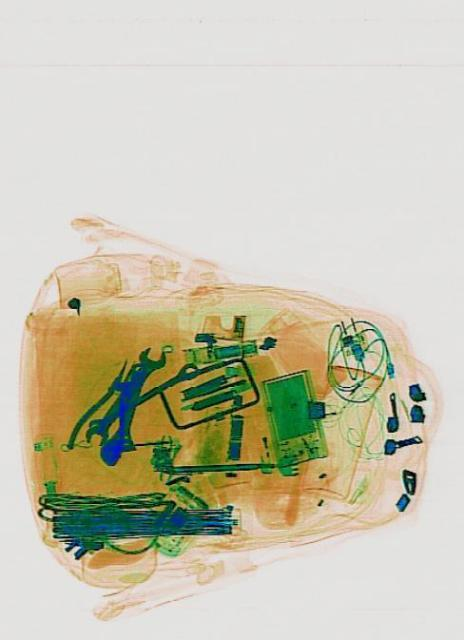Pliers: (63, 346, 148, 472)
Wrench: (79, 356, 200, 450), (111, 339, 166, 457)
